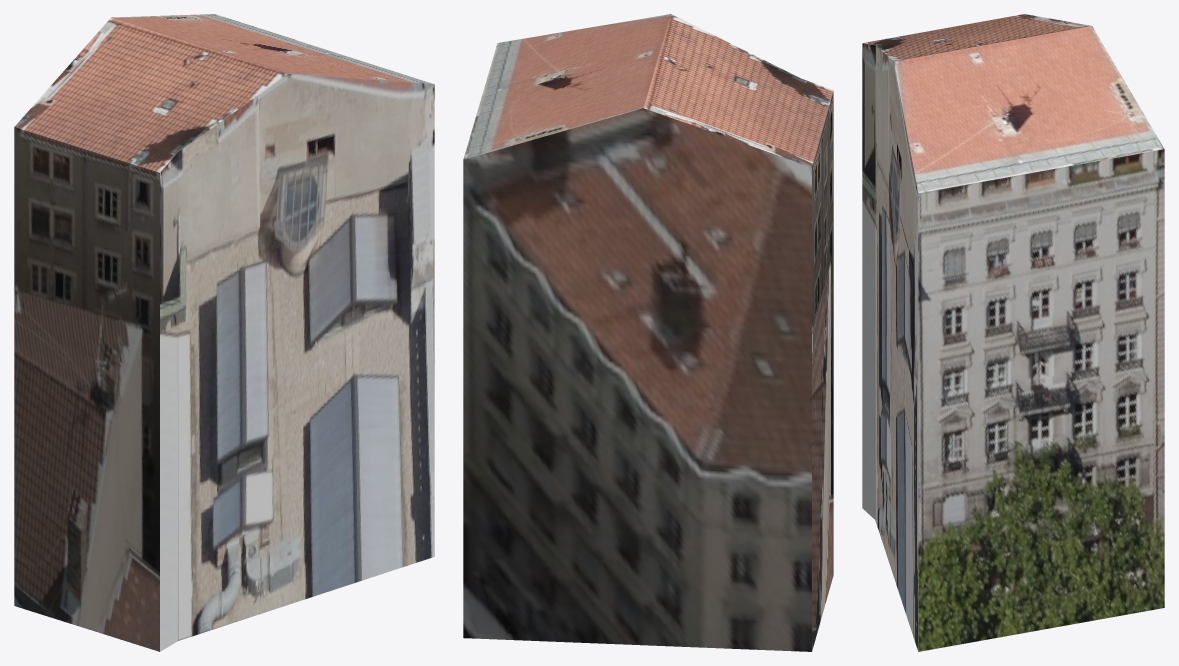
3 renders of one model, left to right at view 1: azimuth 30°, elevation 25°; view 2: azimuth 150°, elevation 25°; view 3: azimuth 270°, elevation 25°, orthographic. The views are drawn at different scales.
Parts seen in each view (by area): view 1: Z_UP; view 2: Z_UP; view 3: Z_UP.
Part boxes in pixels (left/top/right/bottom): Z_UP: left=14, top=14, right=434, bottom=651; Z_UP: left=463, top=14, right=833, bottom=651; Z_UP: left=862, top=14, right=1164, bottom=651.
Bounding box in the file's own units: 20.45 × 28.38 × 15.09.
Materials: 2 (1 with a texture image).
